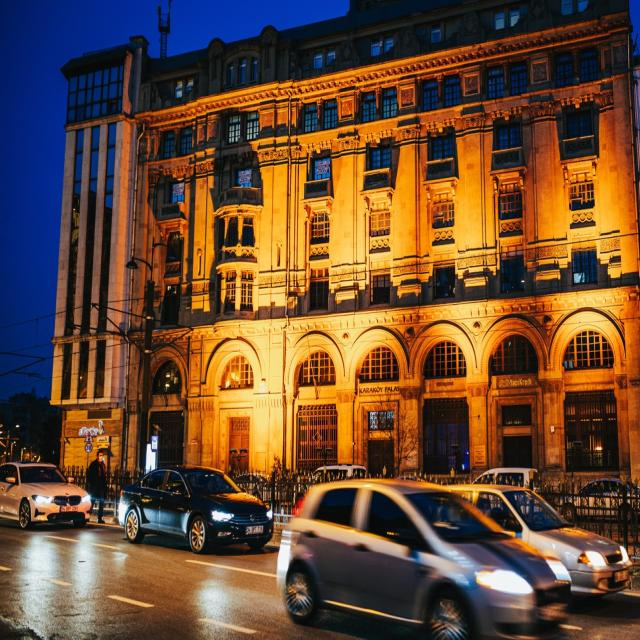car: (277, 480, 570, 640), (452, 483, 635, 600), (117, 466, 275, 554), (0, 460, 92, 528)
